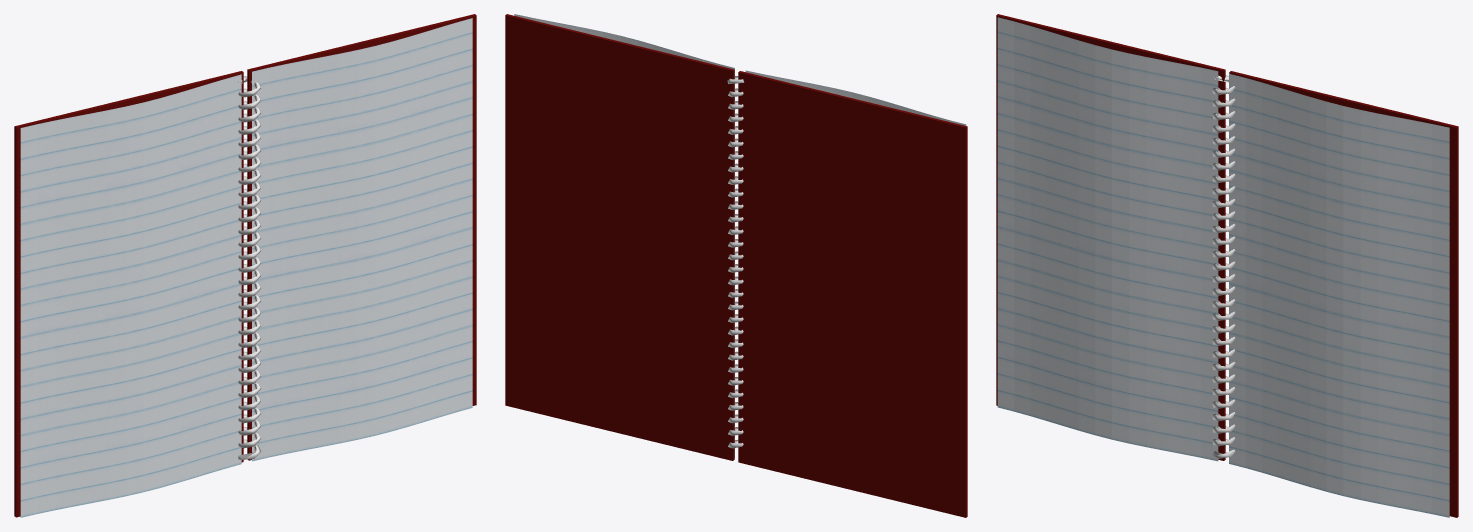
Rendered from notebookOpen.fbx.
3 views of the same model, side by side, from view 1: azimuth 30°, elevation 25°; view 2: azimuth 150°, elevation 25°; view 3: azimuth 330°, elevation 25° (orthographic).
Parts seen in each view (by area): view 1: notebookOpen; view 2: notebookOpen; view 3: notebookOpen.
Boxes of the visible parts, x1,y1,x2,y2 form: notebookOpen: (14,14,476,517); notebookOpen: (505,14,967,517); notebookOpen: (996,14,1458,517).
Size of the model in its own units: 247 by 200 by 11.93.
3 materials, 1 textured.
